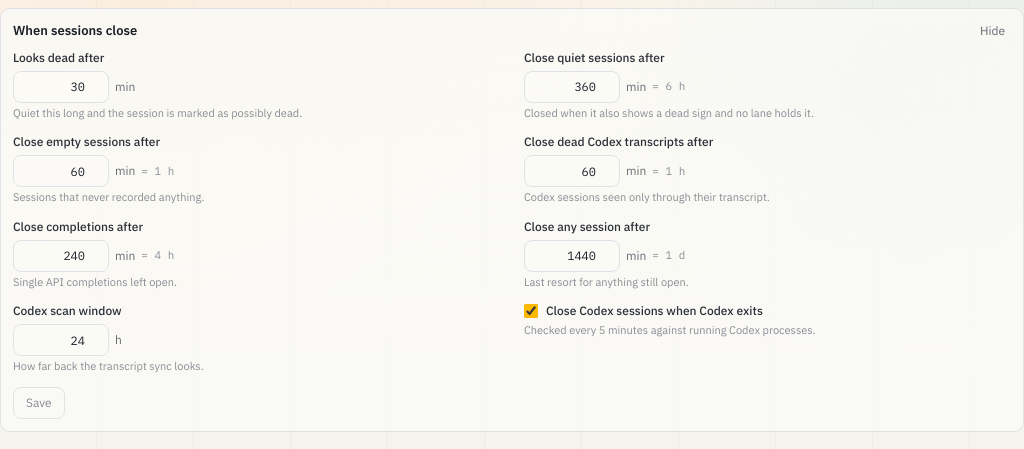
Test: CloseSettingsPanel › shows the server refusal
This screenshot has width=1024, height=449.
Replace the text in the number field labelled "Close any session after" with "120" at x=572, y=256, box [524,240,620,272]
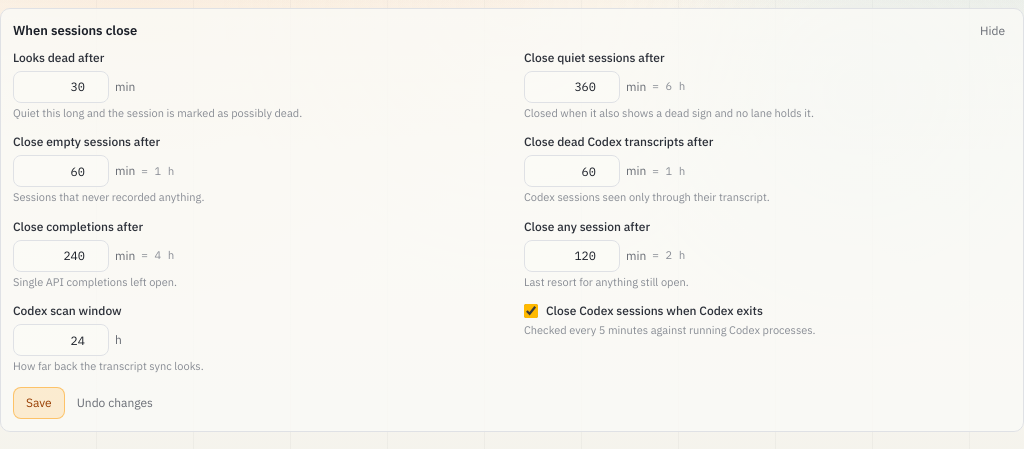
Click the button "Save" at x=39, y=402, box [13,386,65,418]
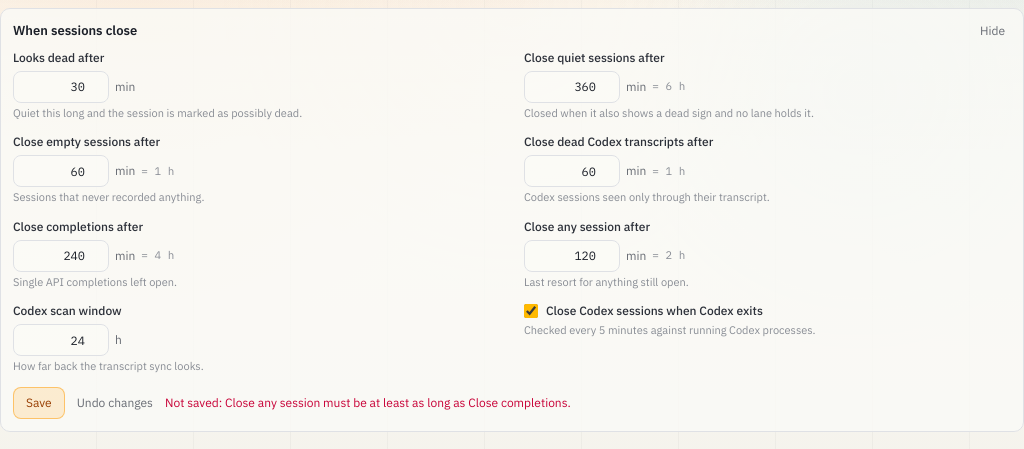
Now the text "Not saved: Close any session" is shown, box [165,394,571,410]
